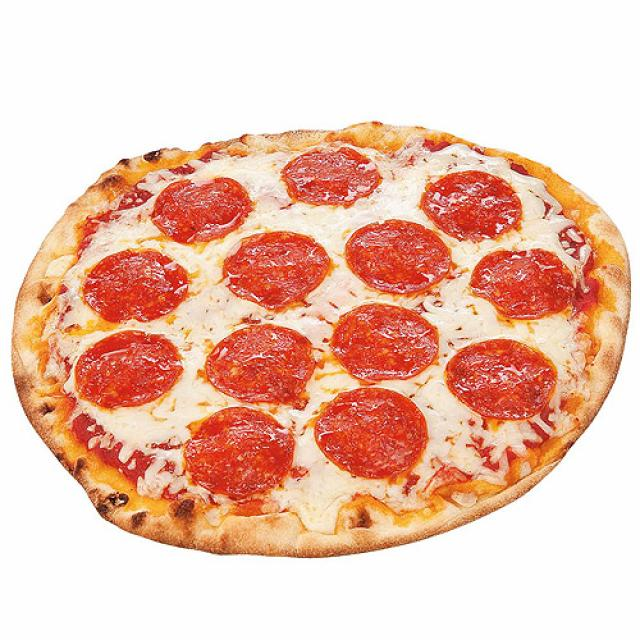pepperoni: (314, 388, 429, 480), (180, 407, 294, 498), (444, 340, 558, 424), (206, 323, 315, 410), (70, 332, 183, 412), (330, 303, 440, 384), (467, 247, 579, 325), (225, 232, 333, 310), (346, 220, 457, 294), (81, 250, 191, 324), (421, 170, 525, 246), (150, 178, 256, 248), (279, 146, 383, 209)
pizza: (13, 120, 631, 562)
